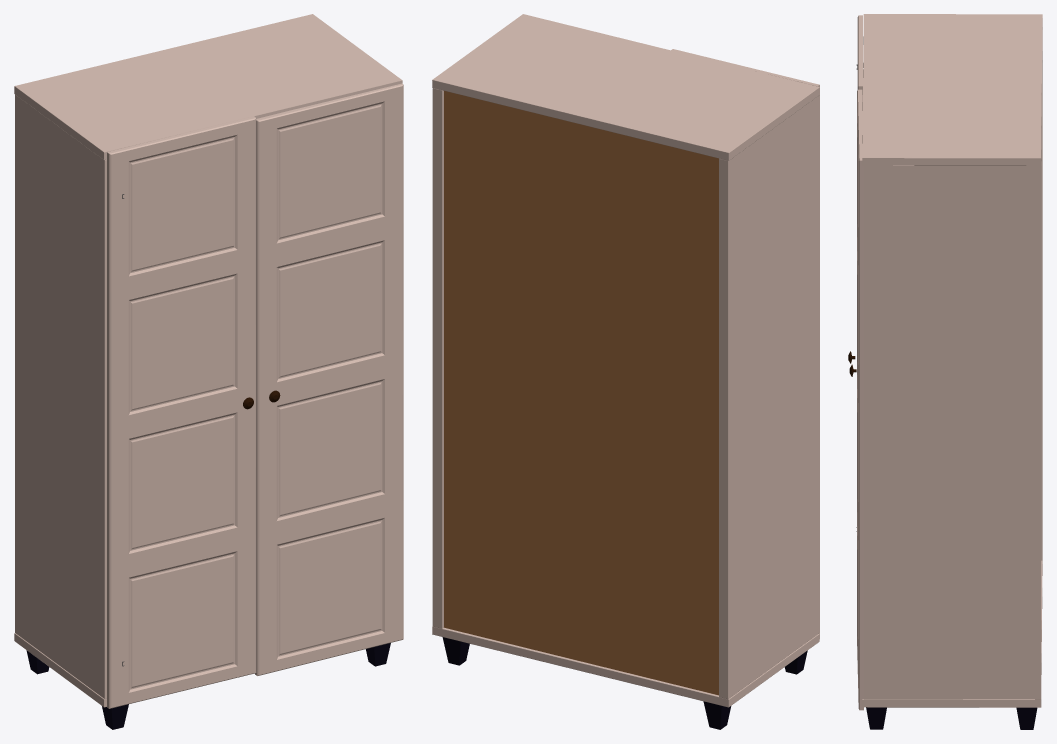
The model's file is lemari.fbx.
The picture shows the model from 3 angles, left to right: view 1: azimuth 30°, elevation 25°; view 2: azimuth 150°, elevation 25°; view 3: azimuth 270°, elevation 25°; orthographic projection.
Visible parts, largest first — view 1: ручка правая, Дверь левая, бока коробки, Верх низ коробки, Ножкиновые; view 2: Задняя стенка, бока коробки, Верх низ коробки, Ножкиновые, ручка правая; view 3: бока коробки, Верх низ коробки, Дверь левая, Ножкиновые, ручка правая.
Part boxes in pixels (x1,y1,x2,y2): ручка правая: (107, 116, 256, 708); Дверь левая: (255, 83, 403, 675); бока коробки: (15, 94, 106, 698); Верх низ коробки: (14, 14, 402, 707); Ножкиновые: (26, 643, 390, 729); Задняя стенка: (444, 91, 718, 695); бока коробки: (432, 88, 818, 699); Верх низ коробки: (432, 14, 819, 707); Ножкиновые: (442, 637, 807, 729); ручка правая: (671, 49, 819, 638); бока коробки: (864, 30, 1042, 699); Верх низ коробки: (862, 14, 1042, 707); Дверь левая: (849, 89, 863, 710); Ножкиновые: (866, 707, 1037, 729); ручка правая: (848, 15, 862, 363).
Size of the model in its own units: 240 by 448 by 136.
